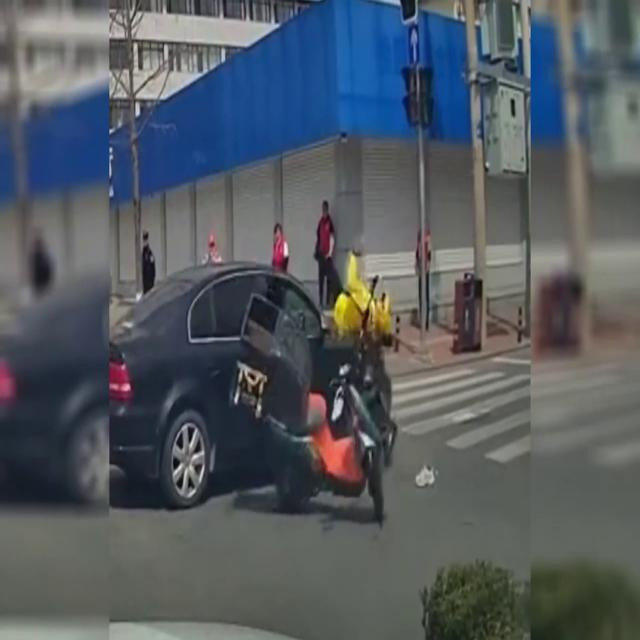accident: (110, 244, 396, 522)
